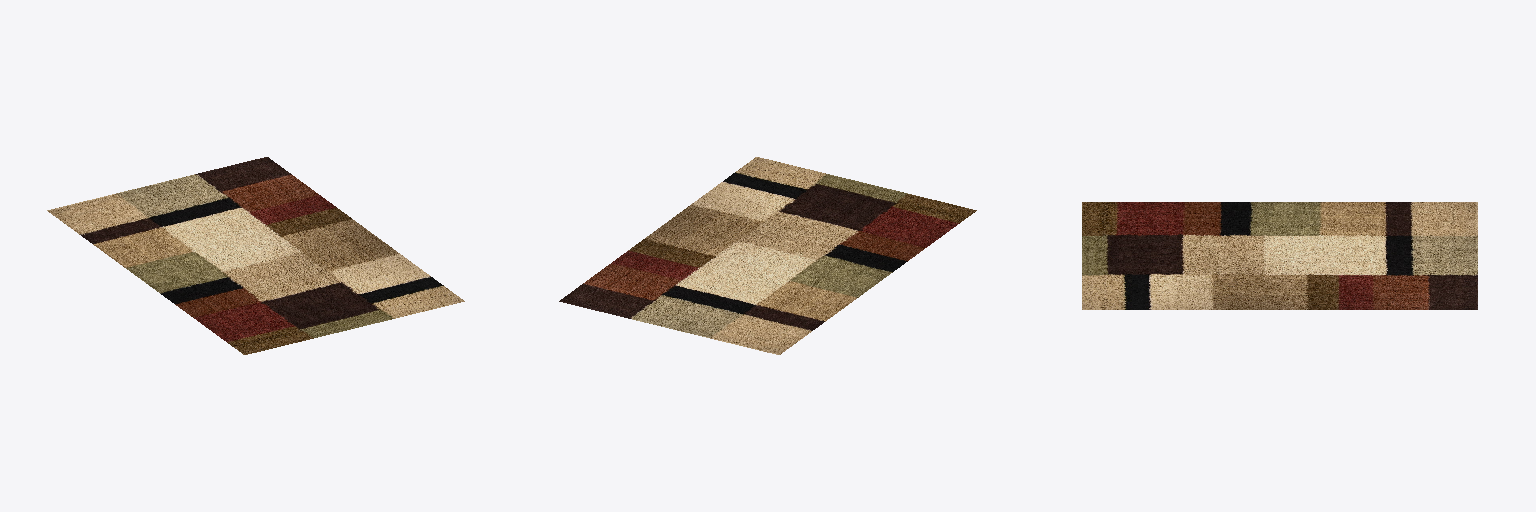
3 views of the same model, side by side, from view 1: azimuth 30°, elevation 25°; view 2: azimuth 150°, elevation 25°; view 3: azimuth 270°, elevation 25° (orthographic).
Parts seen in each view (by area): view 1: cloth; view 2: cloth; view 3: cloth.
Boxes of the visible parts, <box> form: cloth: <box>47,157,464,354</box>; cloth: <box>559,157,976,354</box>; cloth: <box>1082,202,1477,309</box>.
Bounding box in the file's own units: 3.93 × 0 × 6.11.
Materials: 1 (1 with a texture image).